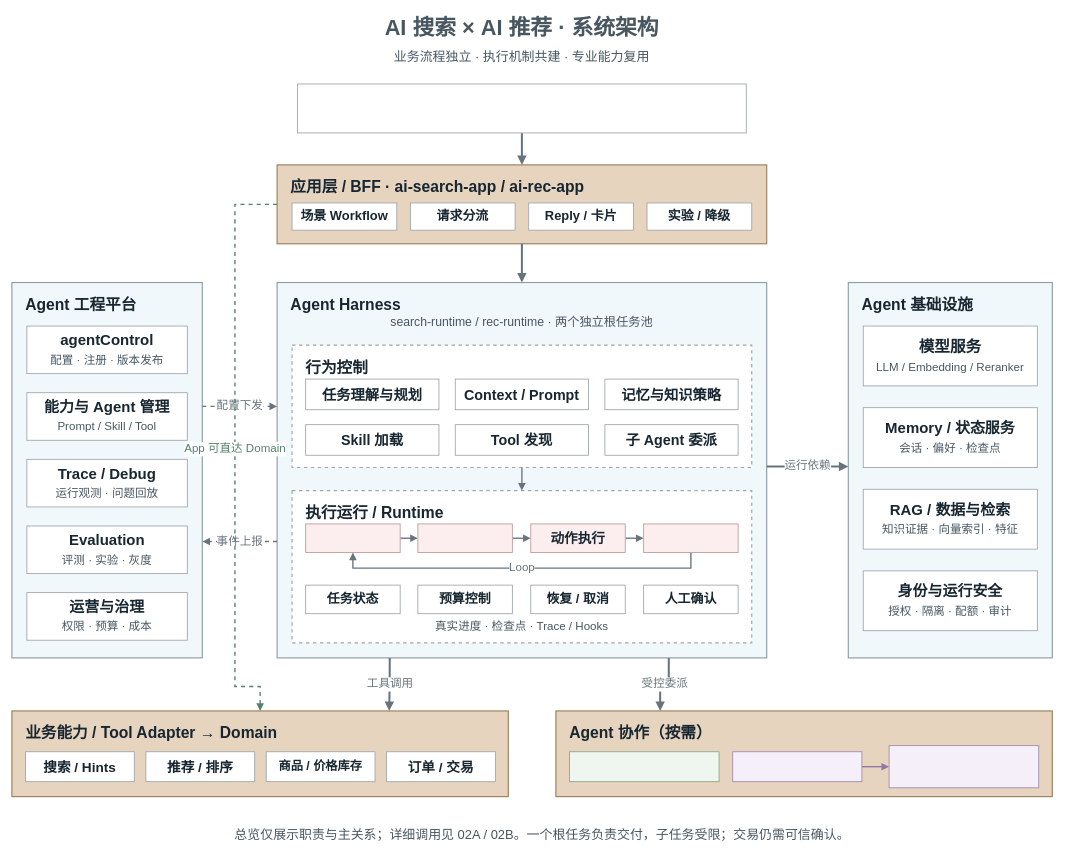
This 1065x862 diagram has some shape labels left out. The centre of each missing label's shape, as x and y in pixels:
Agent Gateway: the point at 797,766
LLM 推理: the point at 465,538
内部专业子 Agent: the point at 644,766
外部 Agent 其他部门 / 合作方: the point at 963,766
用户 / APP / Web 搜索入口 · 推荐流 · 商品详情 · 对话: the point at 521,108
组装上下文: the point at 352,538
结果校验: the point at 690,538
